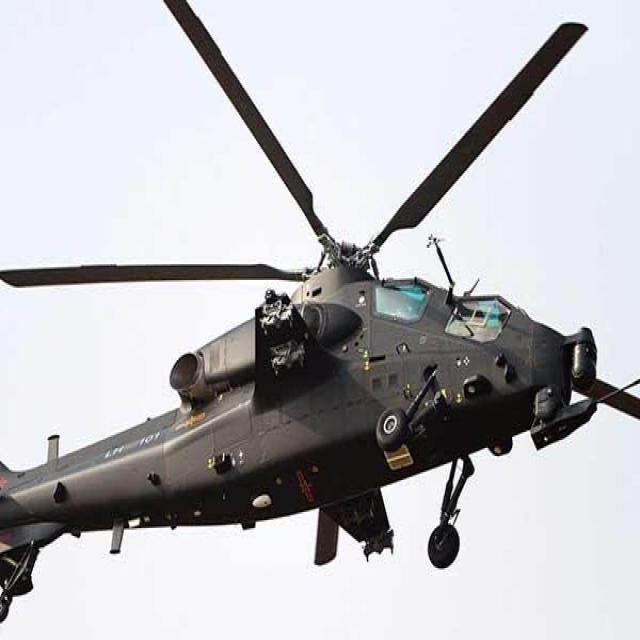MIL_HELO: (0, 14, 602, 605)
